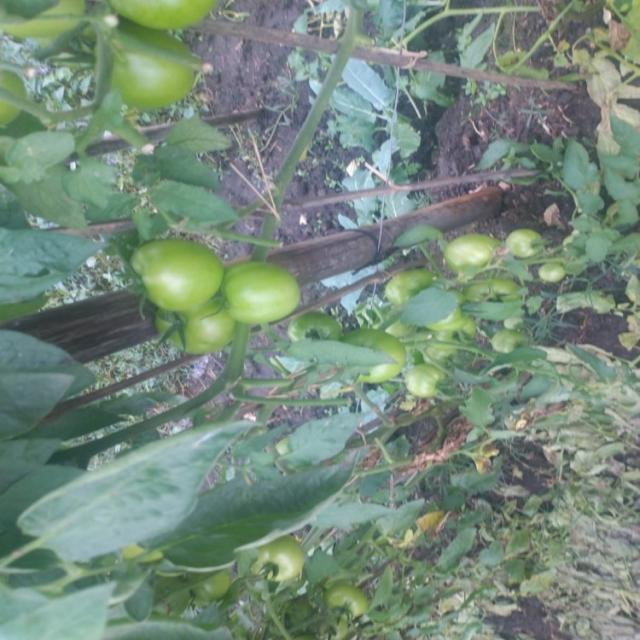tomato: (148, 283, 255, 374), (107, 227, 221, 305), (116, 27, 201, 115), (209, 261, 311, 323), (103, 1, 235, 32), (344, 328, 394, 383), (372, 258, 425, 306), (435, 227, 497, 268), (500, 220, 546, 267), (250, 534, 294, 583), (402, 358, 445, 397), (1, 70, 29, 127), (324, 585, 367, 619), (539, 256, 577, 284)
